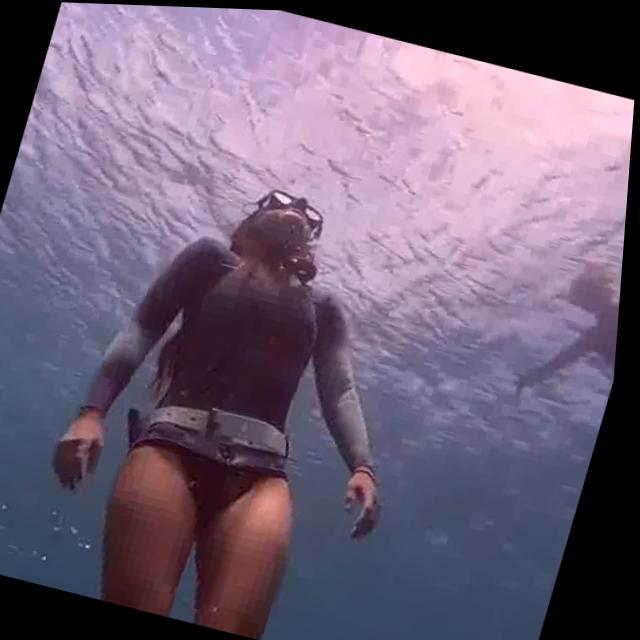human: (10, 128, 493, 640), (465, 175, 631, 541)
